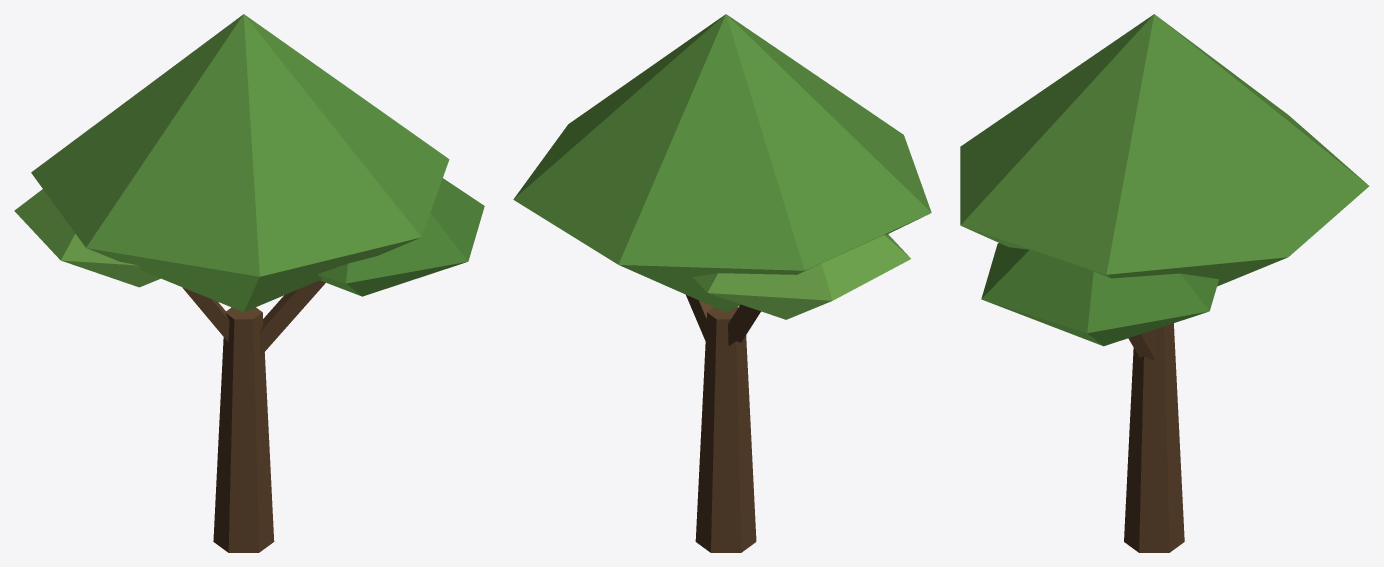
Rendered from nature.oak.glb.
3 renders of one model, left to right at view 1: azimuth 30°, elevation 25°; view 2: azimuth 150°, elevation 25°; view 3: azimuth 270°, elevation 25°, orthographic.
Parts seen in each view (by area): view 1: nature-oak; view 2: nature-oak; view 3: nature-oak.
Boxes of the visible parts, x1,y1,x2,y2 form: nature-oak: (14, 14, 484, 552); nature-oak: (513, 14, 931, 552); nature-oak: (960, 14, 1369, 552).
Bounding box in the file's own units: 3.57 × 4.6 × 3.23.
